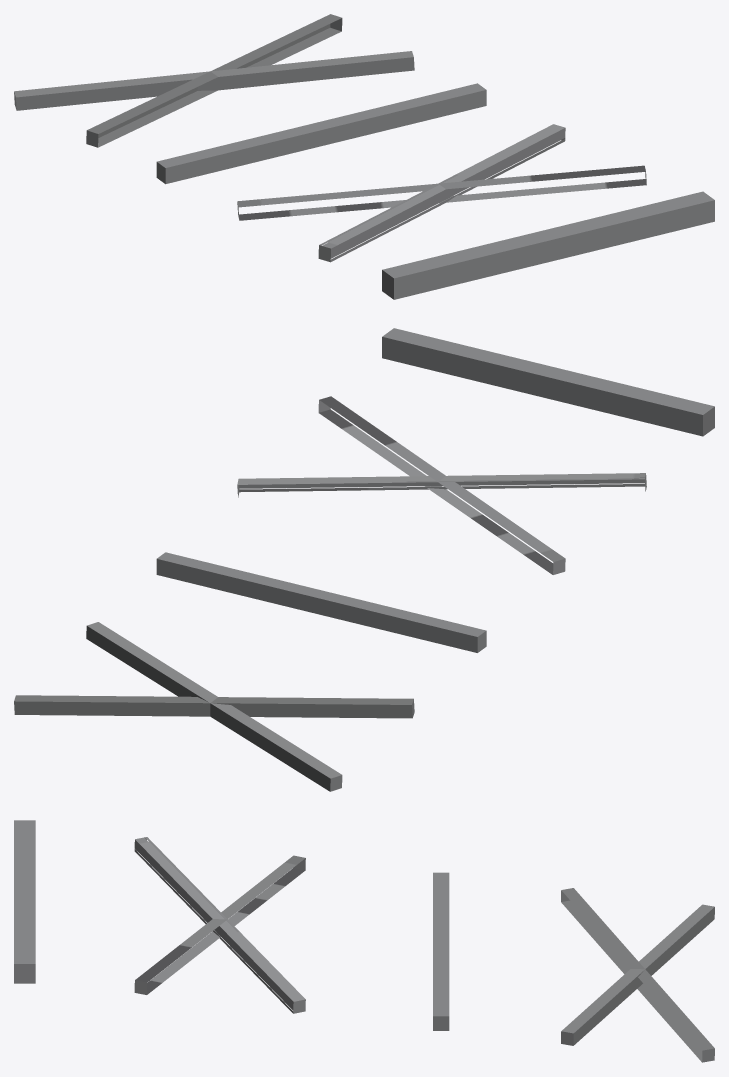
3 views of the same model, one above another, from view 1: azimuth 30°, elevation 25°; view 2: azimuth 150°, elevation 25°; view 3: azimuth 270°, elevation 25° (orthographic). The views are drawn at different scales.
Bounding box in the file's own units: 1.02 × 0.3172 × 2.06.
